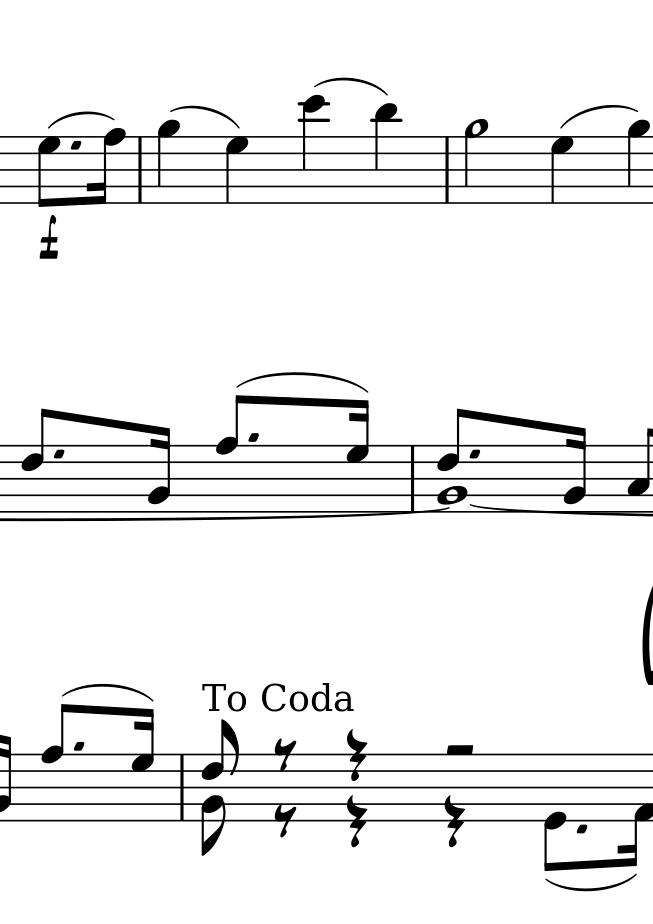16_1: (618, 753, 653, 867)
16_2: (146, 425, 173, 514), (562, 425, 588, 511)
16_7: (129, 707, 155, 822), (347, 398, 371, 513)
16_8: (88, 127, 127, 206)
2_9: (462, 117, 491, 207)
4_11: (371, 103, 401, 206)
4_12: (300, 95, 330, 206)
4_7: (548, 135, 576, 205), (224, 135, 249, 205)
4_9: (155, 119, 181, 206), (625, 117, 650, 207)
8_0: (543, 750, 568, 868)
8_2_6: (199, 720, 239, 860)
8_6: (20, 406, 54, 520)
8_7: (35, 134, 61, 209)
8_8: (213, 393, 248, 518), (38, 702, 73, 824)
Rests2: (443, 741, 476, 759)
Rests4: (442, 793, 467, 852), (344, 794, 369, 852), (344, 728, 369, 782)
Rests8: (271, 803, 299, 840), (272, 736, 298, 770)
Single_barline: (439, 137, 456, 203), (133, 137, 147, 202), (406, 445, 420, 509)
Slur: (230, 371, 368, 395), (557, 104, 638, 130), (63, 682, 154, 704), (167, 104, 239, 131), (546, 872, 634, 892), (313, 77, 388, 99), (46, 109, 114, 130)
ToCoda: (199, 680, 356, 715)
dot: (572, 822, 589, 838), (246, 429, 261, 446), (466, 446, 483, 461), (68, 136, 82, 153), (70, 738, 85, 753), (51, 446, 65, 461)
f: (37, 214, 61, 261)
